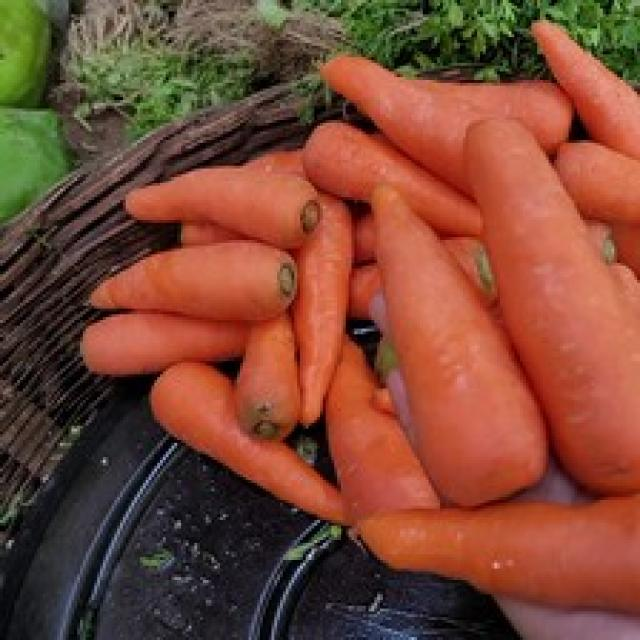Fresh_Carrot: (456, 121, 637, 469), (344, 499, 640, 616), (369, 201, 473, 479), (115, 161, 296, 231)
